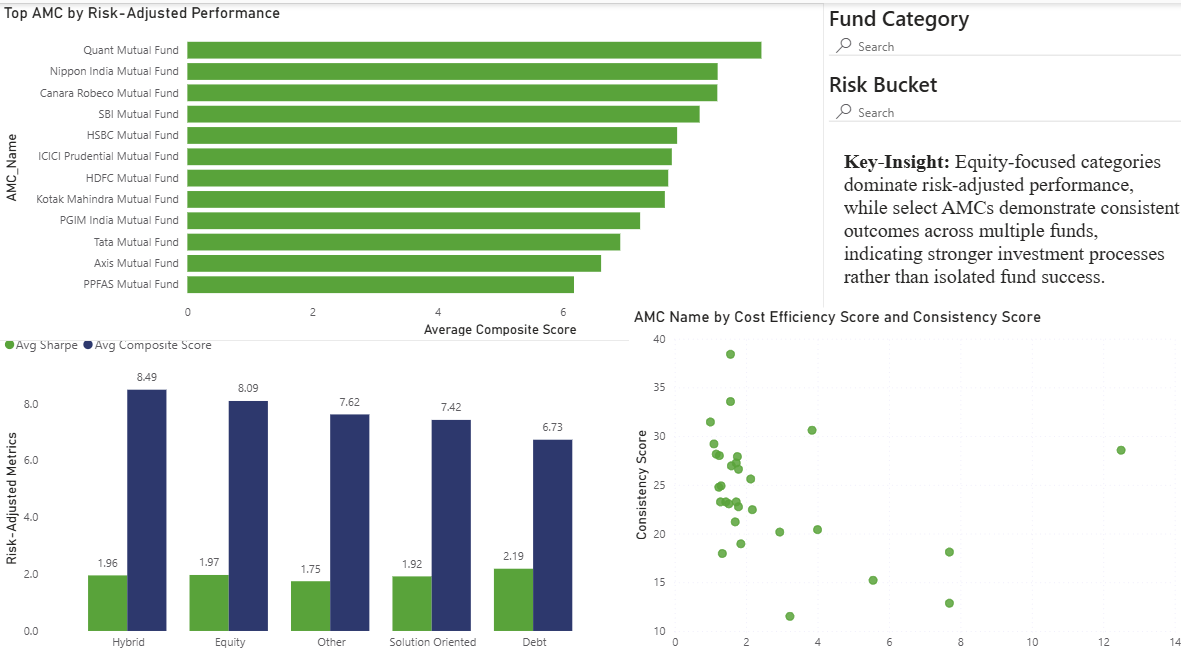

Layout of this report page (visuals, bound fields, positions):
{"tool":"powerbi","page":{"name":"Category & AMC Benchmarking","canvas":[1280,720],"ordinal":2},"visuals":[{"type":"clusteredColumnChart","fields":{"Category":["Worksheet.category"],"Y":["Worksheet.Avg Sharpe","Worksheet.Avg Composite Score"]},"box":[0,328.1,670.4,391.9],"z":0},{"type":"barChart","title":"Top AMC by Risk-Adjusted Performance","fields":{"Category":["Worksheet.amc_name"],"Y":["Worksheet.Avg Composite Score"]},"box":[0,0,890.6,364.3],"z":1000},{"type":"scatterChart","title":"AMC Name by Cost Efficiency Score and Consistency Score","fields":{"X":["Worksheet.cost efficiency score"],"Y":["Worksheet.consistency score"]},"box":[680.1,328.1,600.7,391.9],"z":2000},{"type":"textbox","box":[906.8,153.8,374,160.3],"z":3000},{"type":"listSlicer","title":"Fund Category","fields":{"Values":["Worksheet.category"]},"box":[890.6,0,390.2,71.2],"z":4000},{"type":"listSlicer","fields":{"Values":["Worksheet.risk_bucket"]},"box":[890.6,71.2,390.2,71.2],"z":5000}]}

Visuals, with their boxes in screenshot pixels (x1, y1, x2, y2), scaled from the page's 1280x720 canvas onto the 1181x653 screenshot:
clusteredColumnChart - Worksheet.category x Worksheet.Avg Sharpe: 0 298 619 652
"Top AMC by Risk-Adjusted Performance" barChart: 0 0 822 330
"AMC Name by Cost Efficiency Score and Consistency Score" scatterChart: 627 298 1180 652
textbox: 837 139 1180 285
"Fund Category" listSlicer: 822 0 1180 65
listSlicer - Worksheet.risk_bucket: 822 65 1180 129
